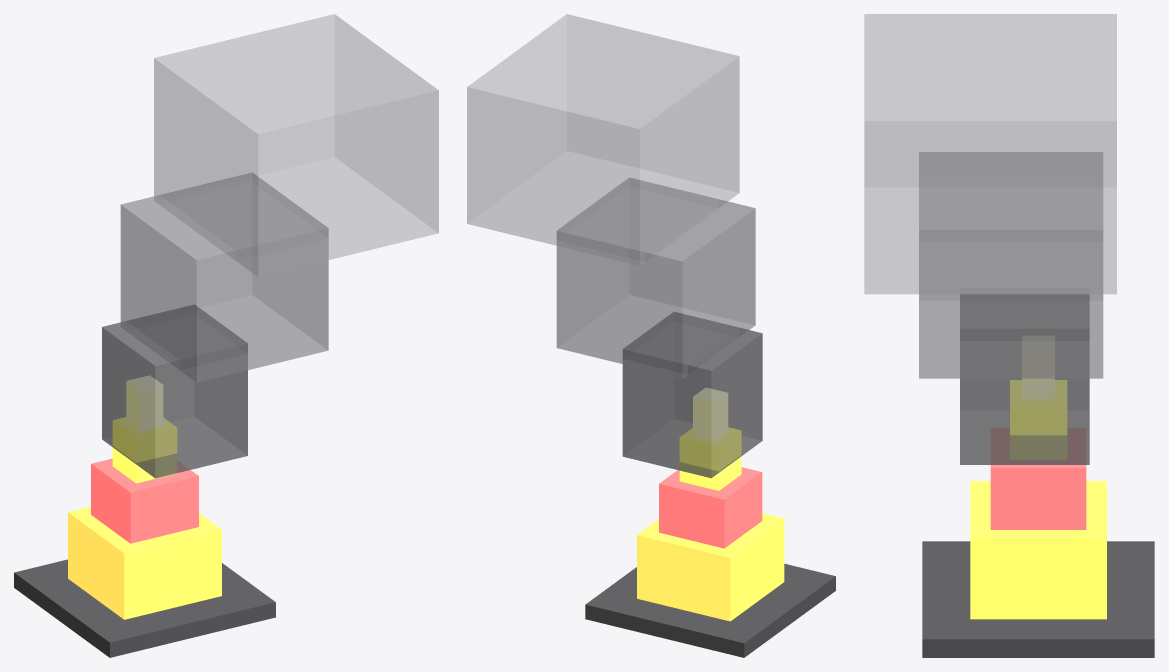
The model's file is AED_SpotFire.gltf.
The picture shows the model from 3 angles, left to right: view 1: azimuth 30°, elevation 25°; view 2: azimuth 150°, elevation 25°; view 3: azimuth 270°, elevation 25°; orthographic projection. The views are drawn at different scales.
Visible parts, largest first — view 1: AED_SpotFire; view 2: AED_SpotFire; view 3: AED_SpotFire.
Part boxes in pixels (x1,y1,x2,y2): AED_SpotFire: (14, 14, 438, 657); AED_SpotFire: (467, 14, 835, 657); AED_SpotFire: (864, 14, 1154, 657).
Bounding box in the file's own units: 3.13 × 5 × 2.12.
